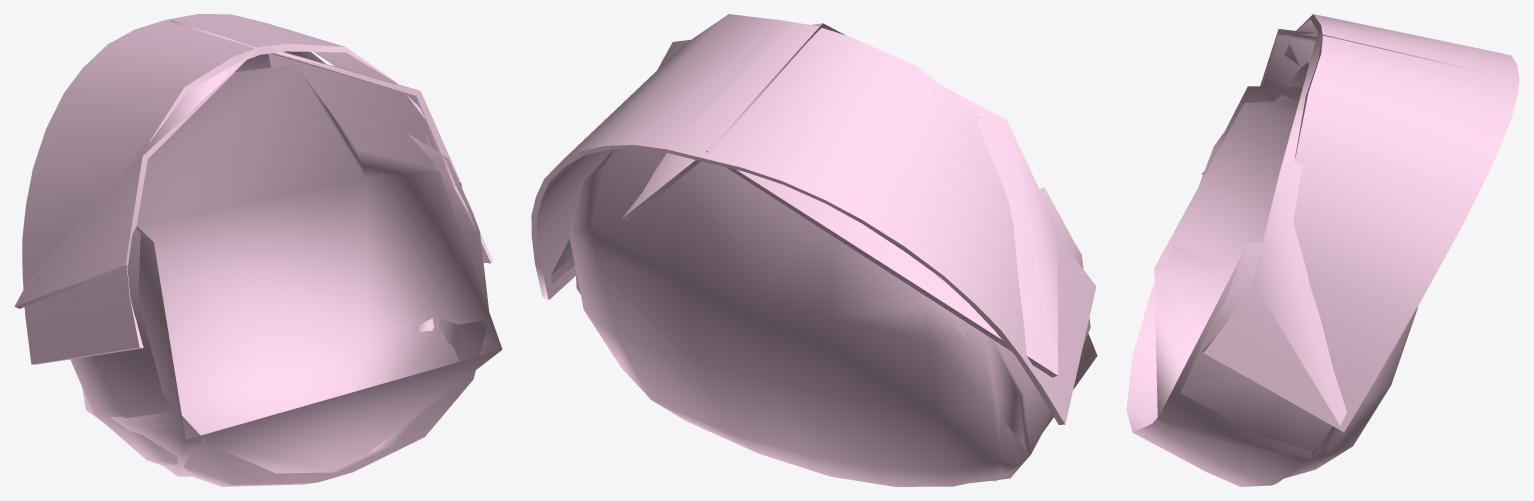
The model's file is White.dae.
3 renders of one model, left to right at view 1: azimuth 30°, elevation 25°; view 2: azimuth 150°, elevation 25°; view 3: azimuth 270°, elevation 25°, orthographic. The views are drawn at different scales.
Parts seen in each view (by area): view 1: Joint_0_Object_1, Joint_0_Object_0; view 2: Joint_0_Object_0, Joint_0_Object_1; view 3: Joint_0_Object_0, Joint_0_Object_1.
Boxes of the visible parts, x1,y1,x2,y2 form: Joint_0_Object_1: (14,19,502,476); Joint_0_Object_0: (22,14,492,486); Joint_0_Object_0: (531,14,1096,486); Joint_0_Object_1: (539,23,1097,481); Joint_0_Object_0: (1126,14,1519,486); Joint_0_Object_1: (1154,29,1510,458).
Bounding box in the file's own units: 7.51 × 6.55 × 5.48.
2 materials, 2 textured.
